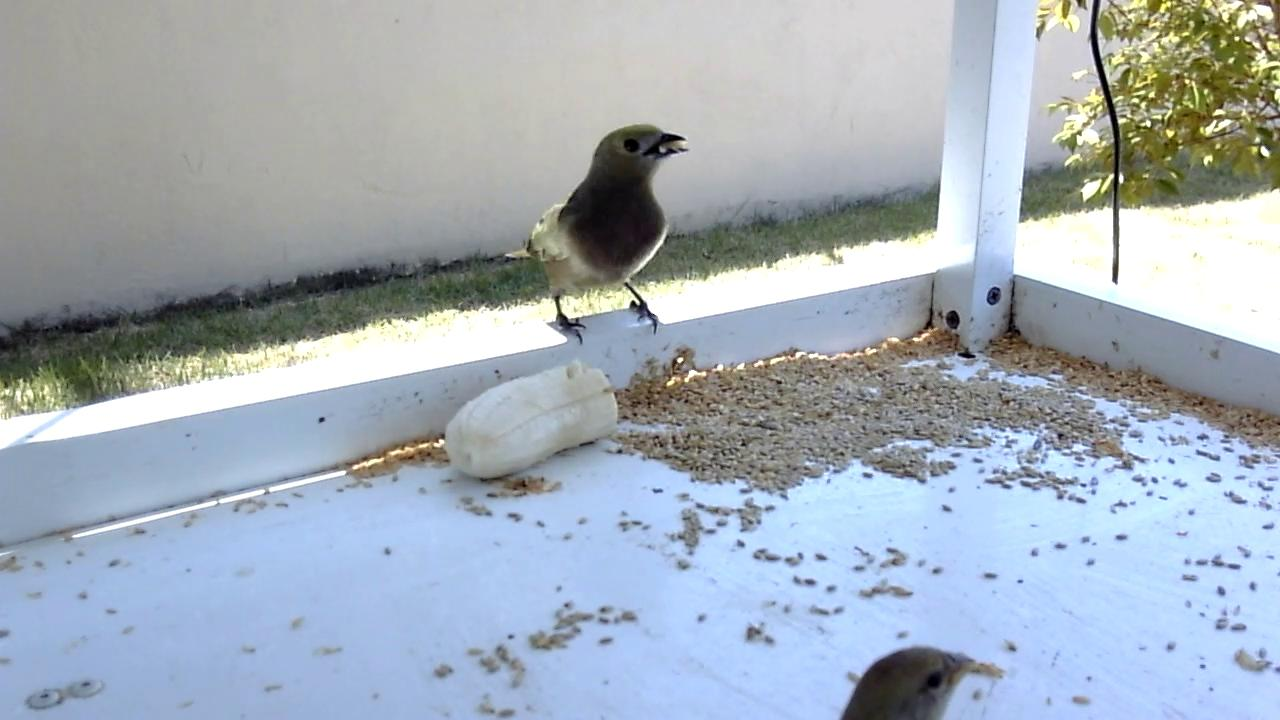canario_do_amazonas: (839, 640, 977, 720)
sanhaco_do_coqueiro: (502, 123, 695, 347)
